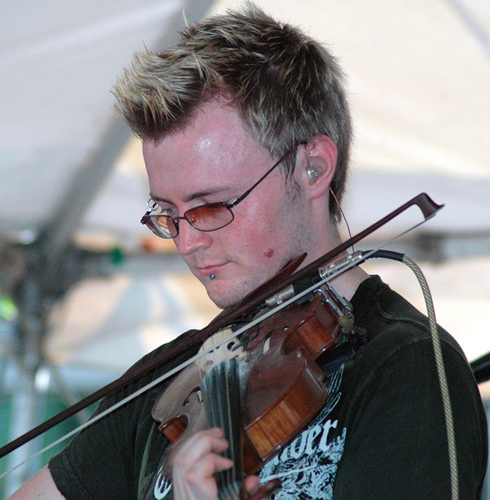without_mask: (118, 61, 360, 313)
